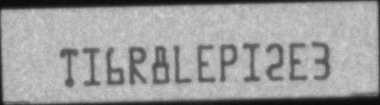2: (264, 43, 285, 82)
3: (312, 40, 330, 80)
6: (106, 47, 124, 85)
8: (150, 45, 170, 85)
E: (289, 42, 309, 81), (197, 44, 216, 84)
I: (83, 46, 102, 86), (241, 41, 260, 81)
L: (173, 44, 193, 84)
P: (219, 42, 238, 84)
R: (128, 45, 147, 86)
T: (58, 47, 77, 88)
